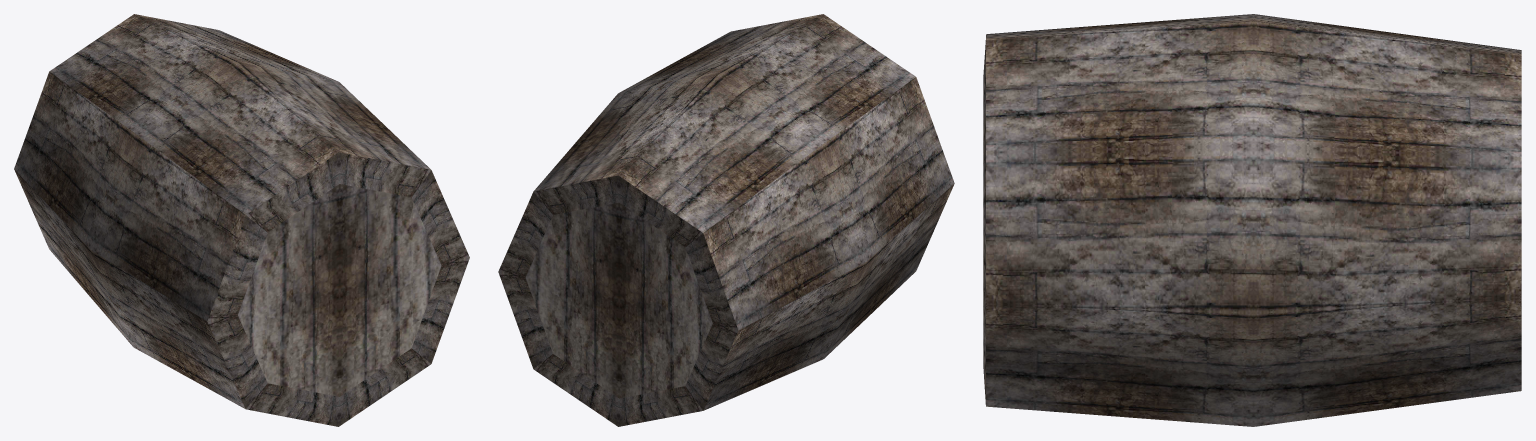
3 renders of one model, left to right at view 1: azimuth 30°, elevation 25°; view 2: azimuth 150°, elevation 25°; view 3: azimuth 270°, elevation 25°, orthographic. The views are drawn at different scales.
Visible parts, largest first — view 1: Object40; view 2: Object40; view 3: Object40.
Part boxes in pixels (box(x1,y1,x2,y2)): Object40: box(14, 14, 469, 426); Object40: box(498, 14, 954, 426); Object40: box(983, 14, 1521, 426).
Bounding box in the file's own units: 13474 × 13474 × 16513.
